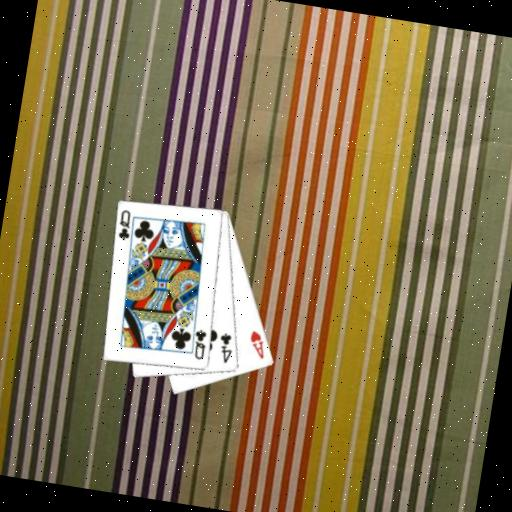4C: (214, 329, 237, 365)
AH: (244, 326, 270, 360)
QC: (188, 326, 210, 362), (114, 206, 135, 242)
